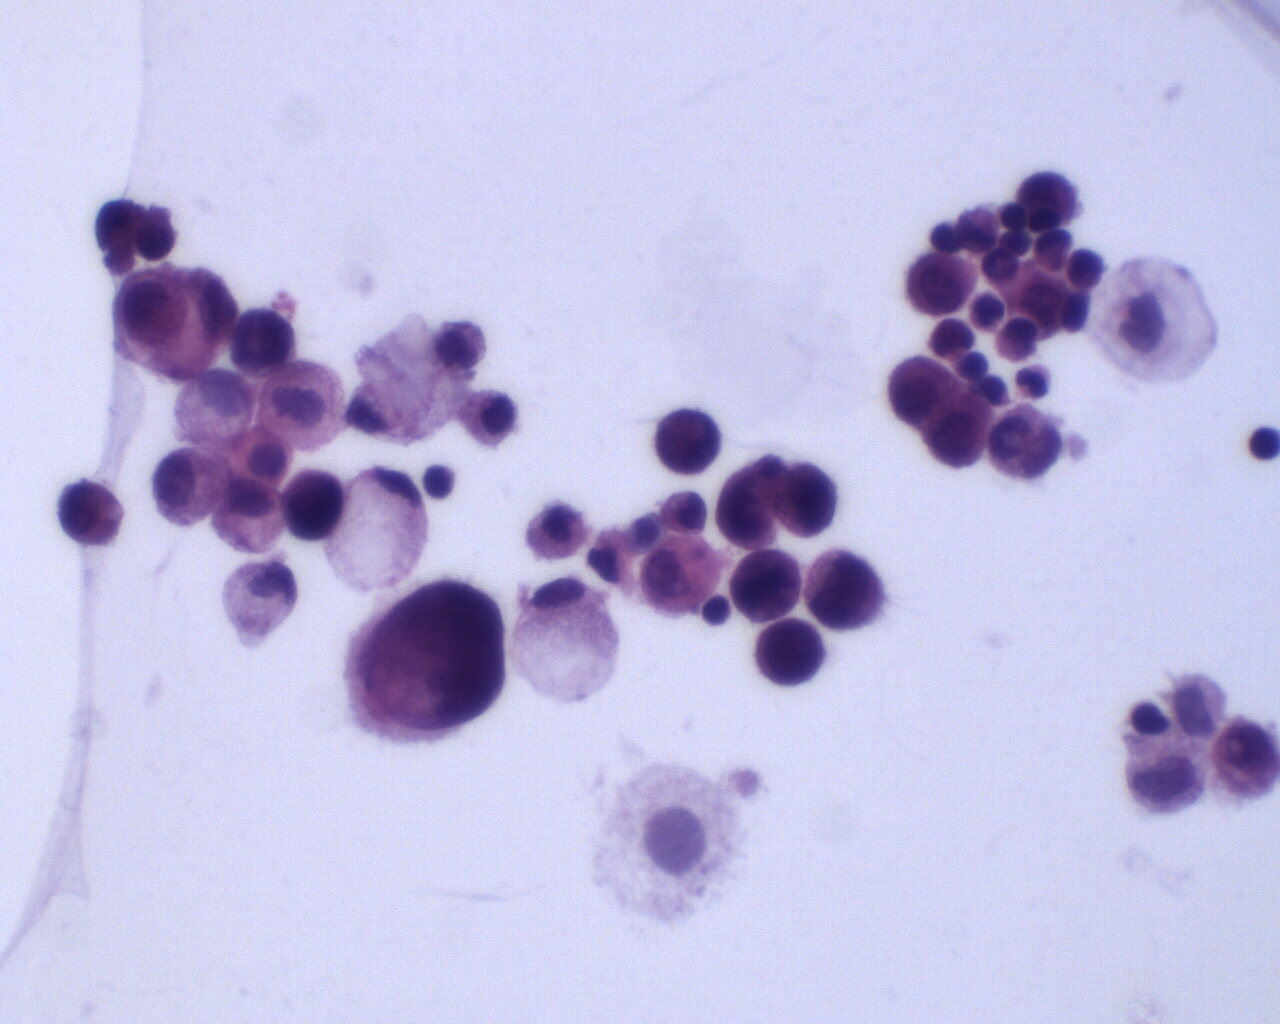ab: (347, 577, 507, 746), (801, 541, 890, 636), (766, 452, 845, 539), (903, 247, 983, 329), (728, 551, 810, 628), (650, 402, 730, 479), (749, 616, 830, 692), (928, 389, 998, 473), (1210, 715, 1280, 799), (229, 305, 303, 383), (273, 468, 350, 541), (883, 351, 955, 426)
histo: (508, 575, 624, 713), (329, 458, 429, 596)
meso: (149, 443, 231, 533), (55, 478, 124, 553), (453, 385, 523, 451)
neutro: (1011, 359, 1054, 403)
